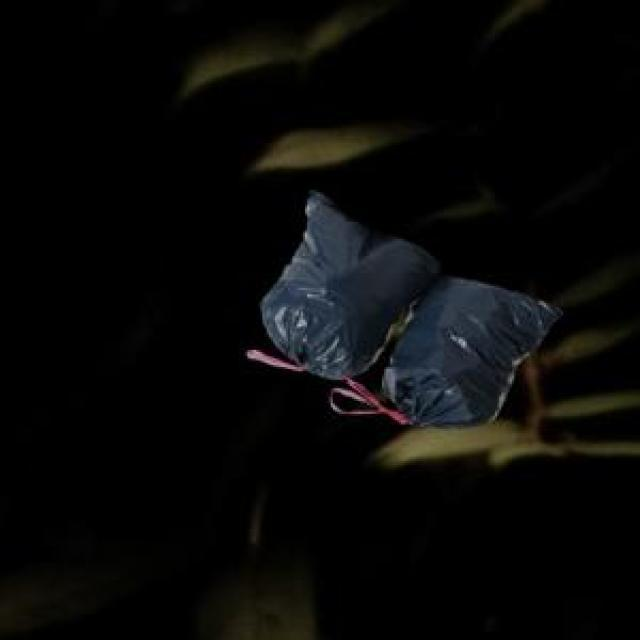miscellaneous trash: (243, 186, 559, 425)
